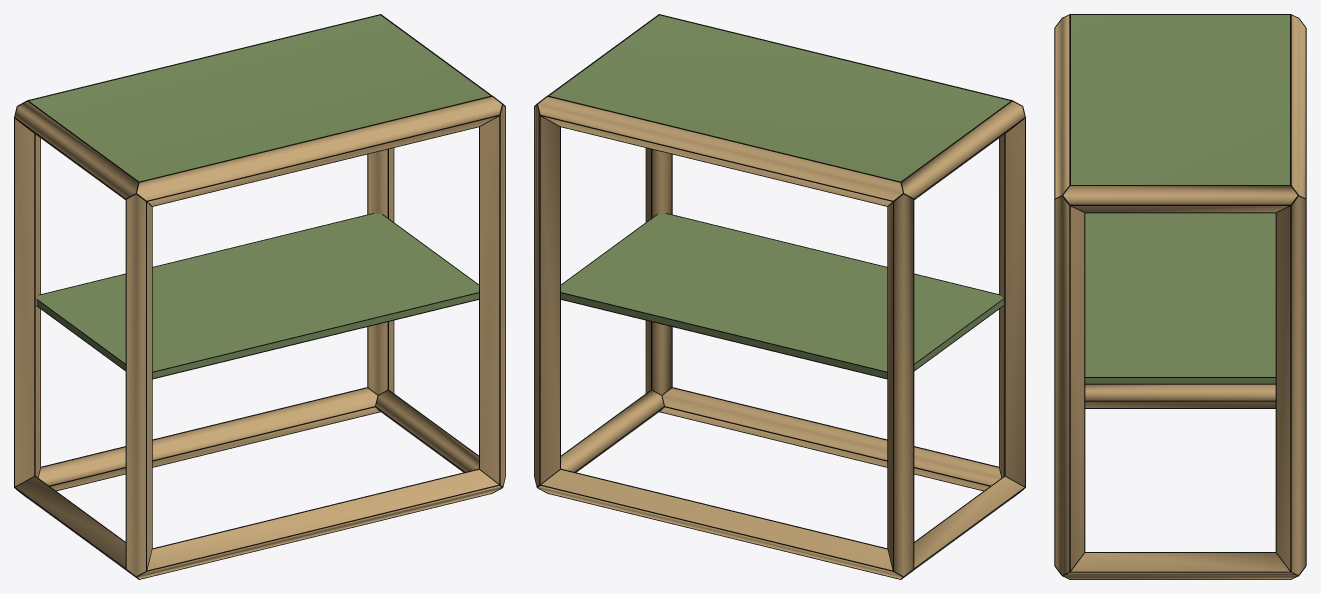
Rendered from bureau-800.glb.
3 renders of one model, left to right at view 1: azimuth 30°, elevation 25°; view 2: azimuth 150°, elevation 25°; view 3: azimuth 270°, elevation 25°, orthographic.
Visible parts, largest first — view 1: panneau-dessus_exterieur, mod-shelf-0, arete-X2, arete-Z1, arete-Z0, arete-X0, arete-Z2, arete-X1, arete-Z3, arete-Y2, arete-Y0, arete-Y1 (+9 smaller); view 2: panneau-dessus_exterieur, mod-shelf-0, arete-X3, arete-Z3, arete-Z2, arete-X1, arete-Z0, arete-X0, arete-Z1, arete-Y2, arete-Y0, arete-Y1 (+9 smaller); view 3: panneau-dessus_exterieur, mod-shelf-0, arete-Z1, arete-Z3, arete-Y3, arete-Y1, arete-Y0, arete-X2, arete-X3, arete-wire-Z1, arete-wire-Z3, arete-wire-Y3 (+6 smaller).
Part boxes in pixels (bbox=[...]): panneau-dessus_exterieur: bbox=[29, 15, 490, 181]; mod-shelf-0: bbox=[36, 213, 478, 378]; arete-X2: bbox=[137, 97, 501, 205]; arete-Z1: bbox=[480, 105, 505, 486]; arete-Z0: bbox=[126, 194, 151, 576]; arete-X0: bbox=[137, 469, 501, 578]; arete-Z2: bbox=[15, 119, 40, 486]; arete-X1: bbox=[38, 388, 379, 490]; arete-Z3: bbox=[368, 148, 393, 394]; arete-Y2: bbox=[15, 101, 138, 199]; arete-Y0: bbox=[15, 477, 125, 569]; arete-Y1: bbox=[376, 390, 478, 471]; panneau-dessus_exterieur: bbox=[549, 15, 1010, 181]; mod-shelf-0: bbox=[561, 213, 1003, 378]; arete-X3: bbox=[538, 97, 902, 205]; arete-Z3: bbox=[534, 105, 559, 486]; arete-Z2: bbox=[888, 194, 913, 576]; arete-X1: bbox=[538, 469, 902, 578]; arete-Z0: bbox=[999, 119, 1024, 486]; arete-X0: bbox=[660, 388, 1001, 490]; arete-Z1: bbox=[646, 148, 671, 394]; arete-Y2: bbox=[901, 101, 1024, 199]; arete-Y0: bbox=[914, 477, 1024, 569]; arete-Y1: bbox=[561, 390, 663, 471]; panneau-dessus_exterieur: bbox=[1071, 15, 1289, 184]; mod-shelf-0: bbox=[1085, 213, 1275, 383]; arete-Z1: bbox=[1055, 196, 1084, 574]; arete-Z3: bbox=[1276, 196, 1305, 574]; arete-Y3: bbox=[1063, 186, 1297, 212]; arete-Y1: bbox=[1064, 553, 1296, 579]; arete-Y0: bbox=[1085, 384, 1275, 407]; arete-X2: bbox=[1055, 15, 1069, 198]; arete-X3: bbox=[1291, 15, 1305, 198]; arete-wire-Z1: bbox=[1054, 195, 1085, 572]; arete-wire-Z3: bbox=[1275, 199, 1306, 572]; arete-wire-Y3: bbox=[1070, 185, 1298, 213].
Size of the model in its own units: 0.8309 by 0.8309 by 0.4809.
